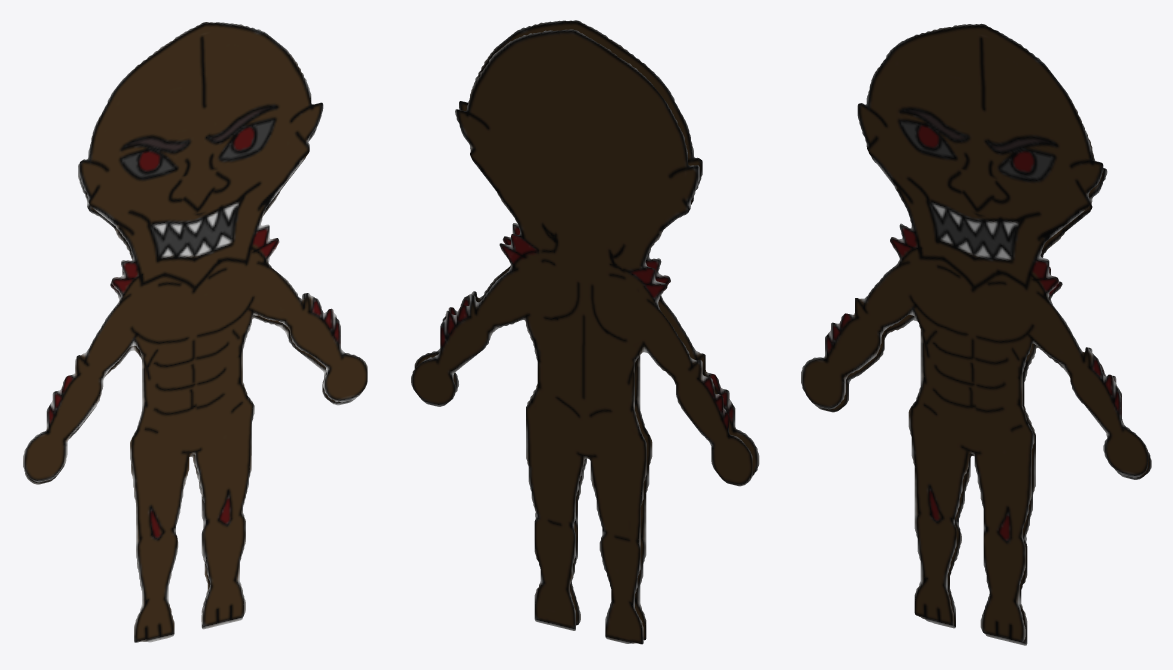
File: MutantC.3.fbx
3 renders of one model, left to right at view 1: azimuth 30°, elevation 25°; view 2: azimuth 150°, elevation 25°; view 3: azimuth 330°, elevation 25°, orthographic.
Parts seen in each view (by area): view 1: Front, Back; view 2: Back, Front; view 3: Front, Back.
Boxes of the visible parts, x1,y1,x2,y2 form: Front: [23, 22, 367, 642]; Back: [25, 127, 354, 642]; Back: [411, 29, 752, 644]; Front: [414, 20, 759, 640]; Front: [801, 23, 1148, 643]; Back: [815, 120, 1151, 645].
Bounding box in the file's own units: 1.78 × 2.95 × 0.0192.
